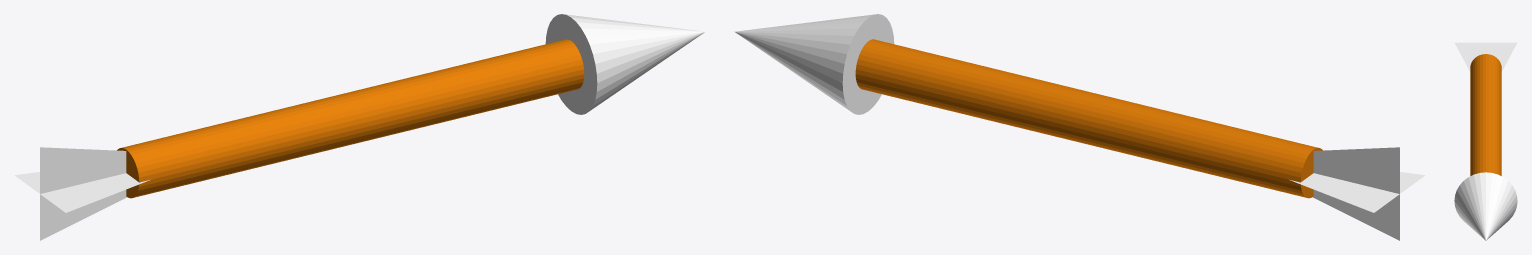
Rendered from ArrowBullet.obj.
3 renders of one model, left to right at view 1: azimuth 30°, elevation 25°; view 2: azimuth 150°, elevation 25°; view 3: azimuth 270°, elevation 25°, orthographic. The views are drawn at different scales.
Visible parts, largest first — view 1: 平面.001; view 2: 平面.001; view 3: 平面.001.
Boxes of the visible parts, <box> form: 平面.001: <box>15,14,705,240</box>; 平面.001: <box>734,14,1424,240</box>; 平面.001: <box>1454,42,1517,240</box>.
Size of the model in its own units: 0.8923 by 0.12 by 0.12.
